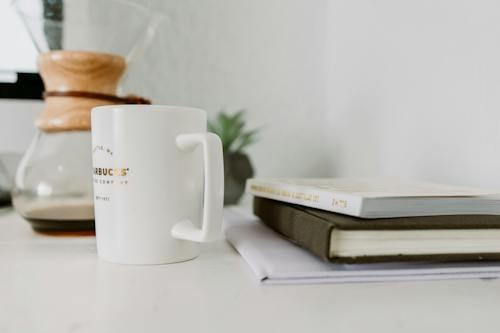Mug: (82, 84, 242, 281)
